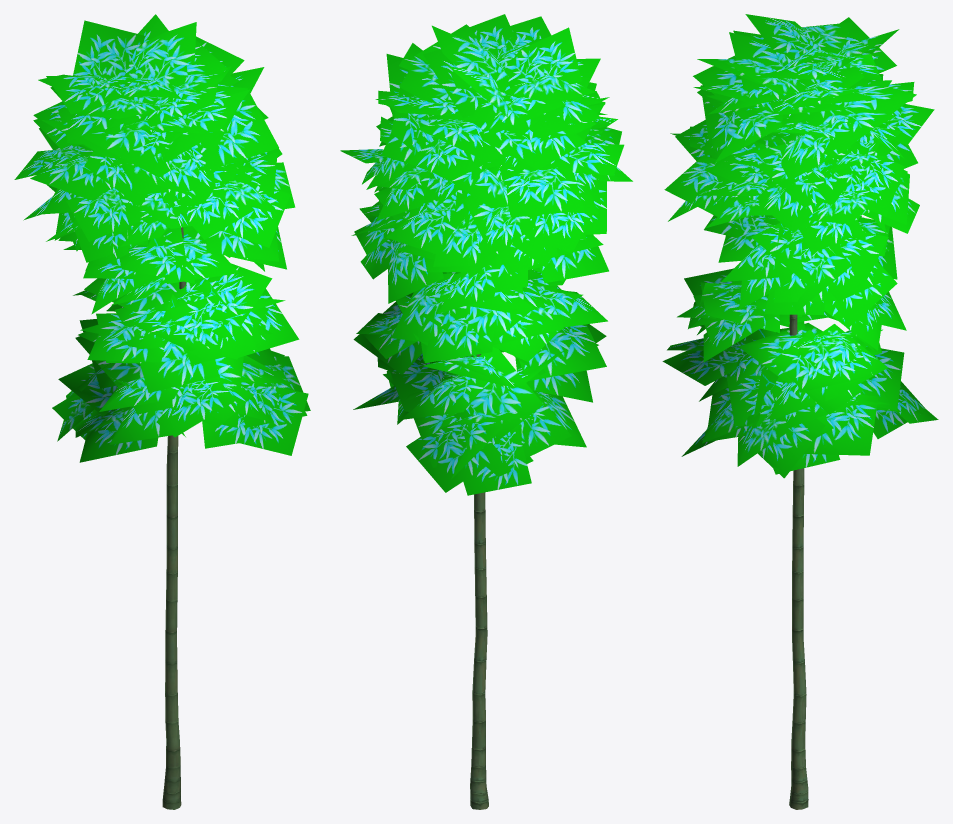
Rendered from Homeworld_Exterior_Common_Plant_Tree_18_Lod0.fbx.
3 views of the same model, side by side, from view 1: azimuth 30°, elevation 25°; view 2: azimuth 150°, elevation 25°; view 3: azimuth 270°, elevation 25° (orthographic).
Visible parts, largest first — view 1: Area_Ly_Tree_QC_Bamboo_02_Leaf_Lod0, Area_Ly_Tree_QC_Bamboo_02_Bark_Lod0; view 2: Area_Ly_Tree_QC_Bamboo_02_Leaf_Lod0, Area_Ly_Tree_QC_Bamboo_02_Bark_Lod0; view 3: Area_Ly_Tree_QC_Bamboo_02_Leaf_Lod0, Area_Ly_Tree_QC_Bamboo_02_Bark_Lod0.
Boxes of the visible parts, <box> form: Area_Ly_Tree_QC_Bamboo_02_Leaf_Lod0: <box>14,14,310,462</box>; Area_Ly_Tree_QC_Bamboo_02_Bark_Lod0: <box>162,213,185,809</box>; Area_Ly_Tree_QC_Bamboo_02_Leaf_Lod0: <box>340,14,632,495</box>; Area_Ly_Tree_QC_Bamboo_02_Bark_Lod0: <box>470,354,488,809</box>; Area_Ly_Tree_QC_Bamboo_02_Leaf_Lod0: <box>662,14,938,478</box>; Area_Ly_Tree_QC_Bamboo_02_Bark_Lod0: <box>789,314,808,809</box>.
Bounding box in the file's own units: 7.69 × 22.64 × 7.38.
